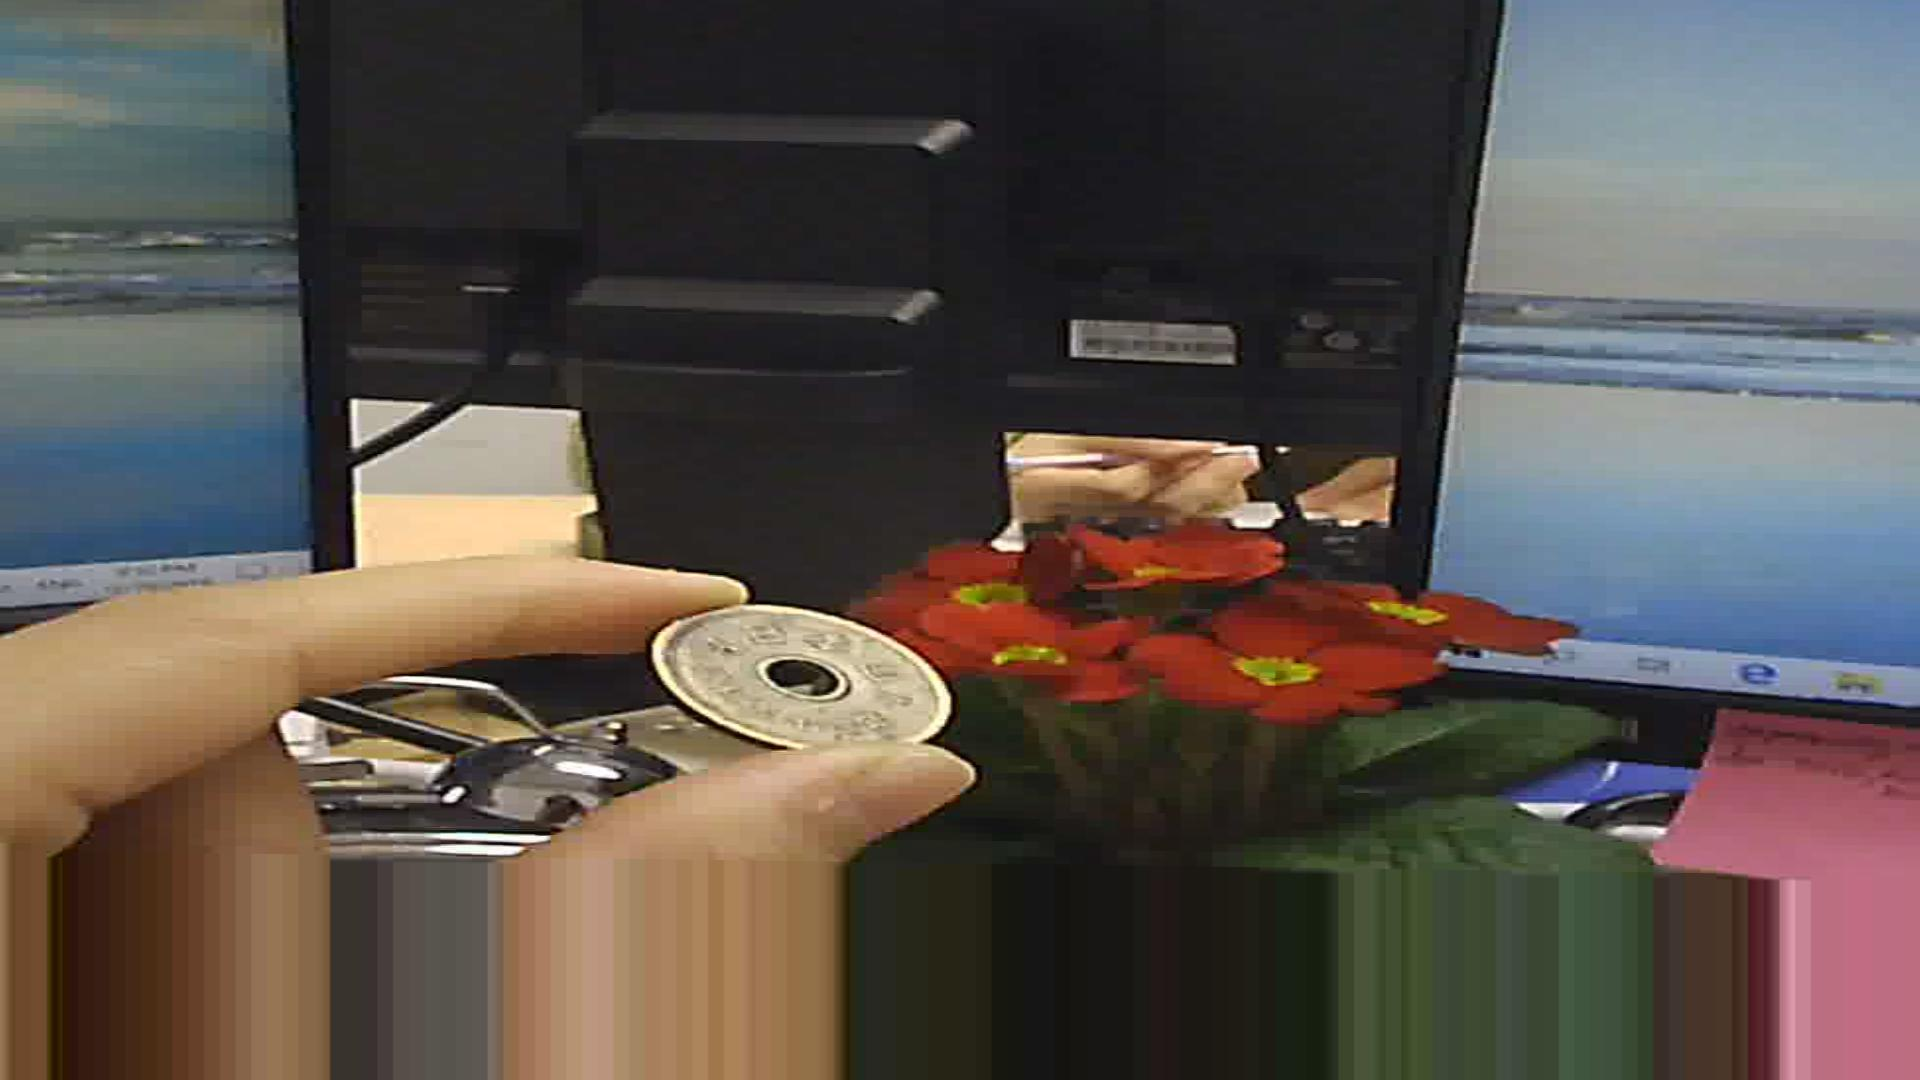5 Yen: (645, 585, 951, 754)
